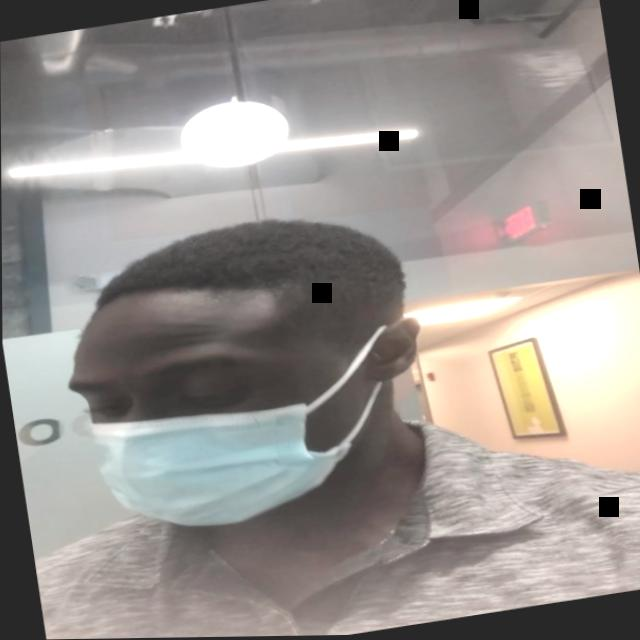Mask: (57, 241, 441, 545)
